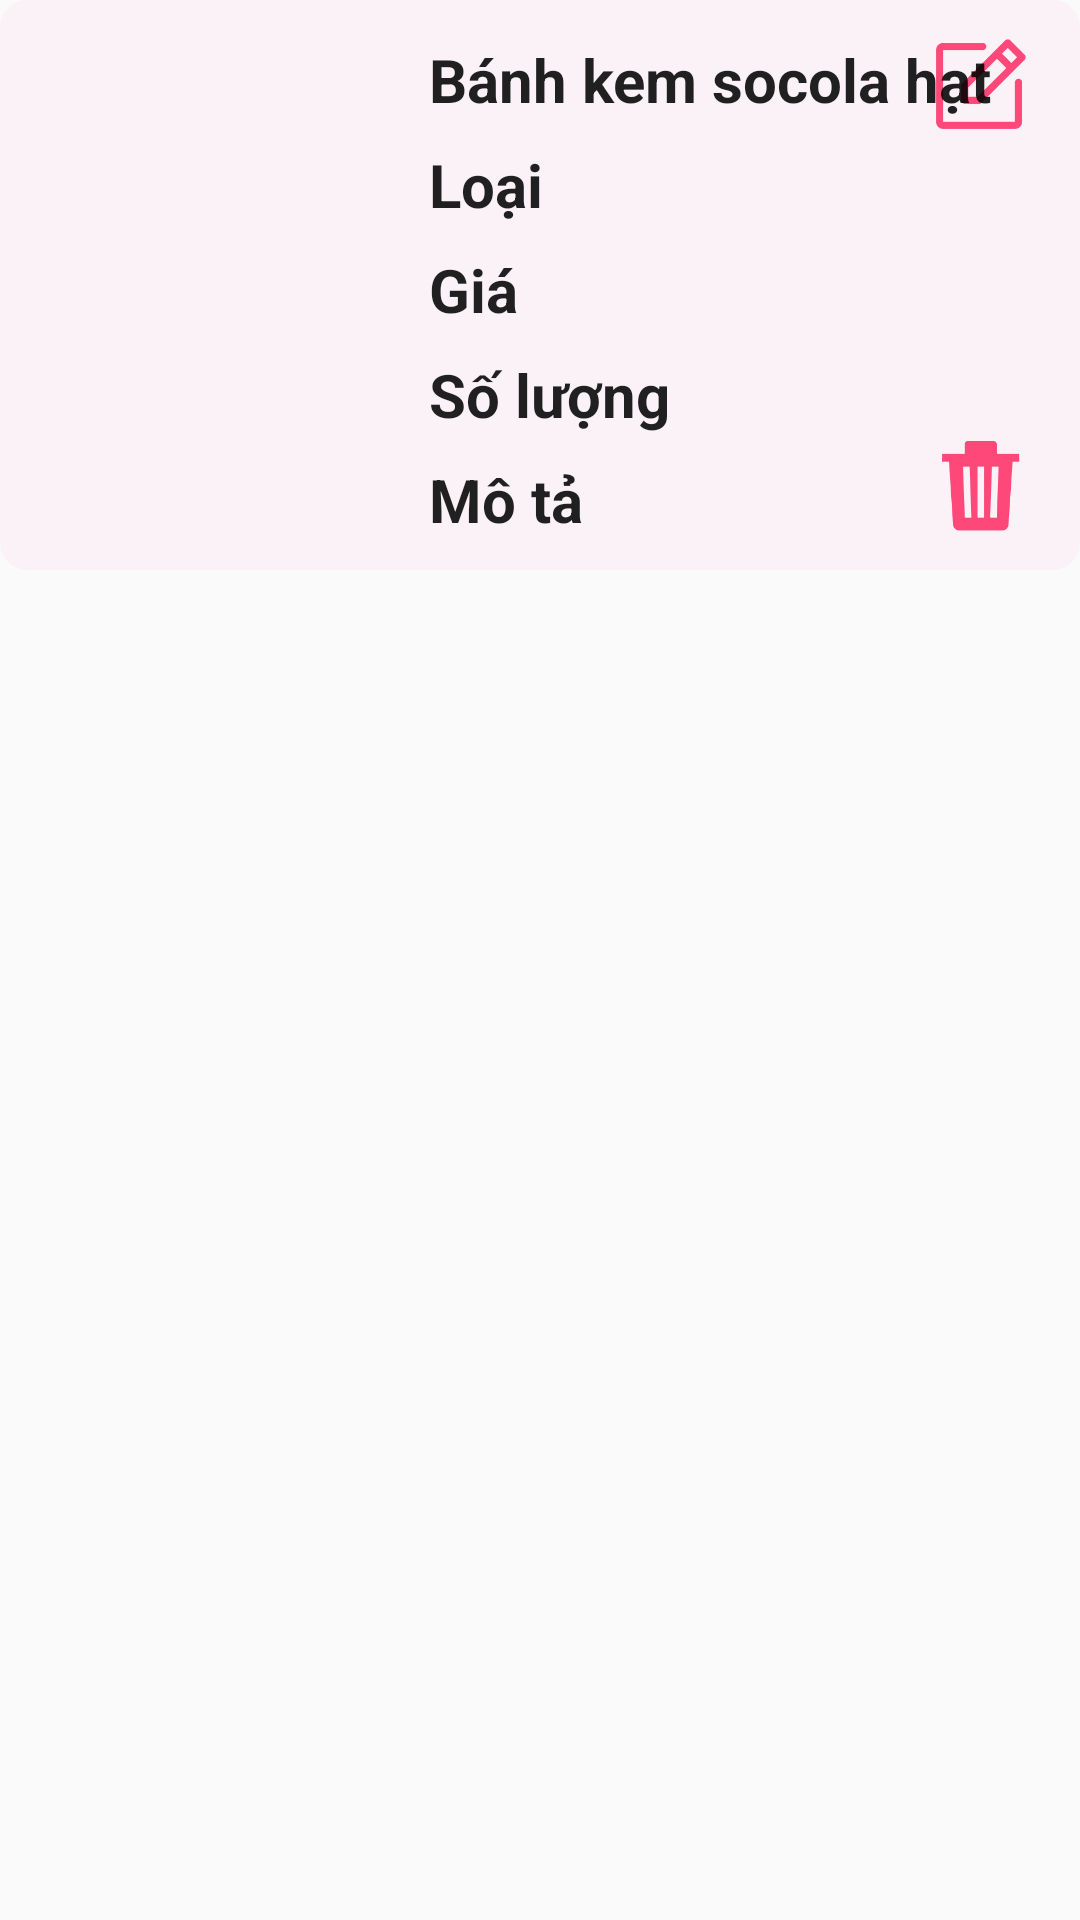

Screen size 1080x1920. Icon name, then its center in pixels as (x,y):
pen: (981,84)
trash: (981,486)
